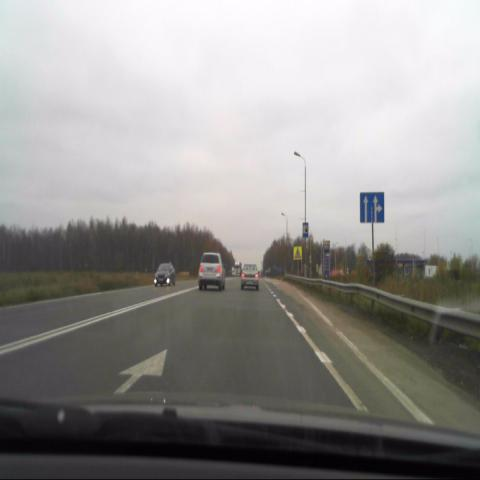1_22: (294, 246, 302, 259)
5_15_2_2: (360, 191, 385, 223)
7_3: (302, 222, 309, 238)
